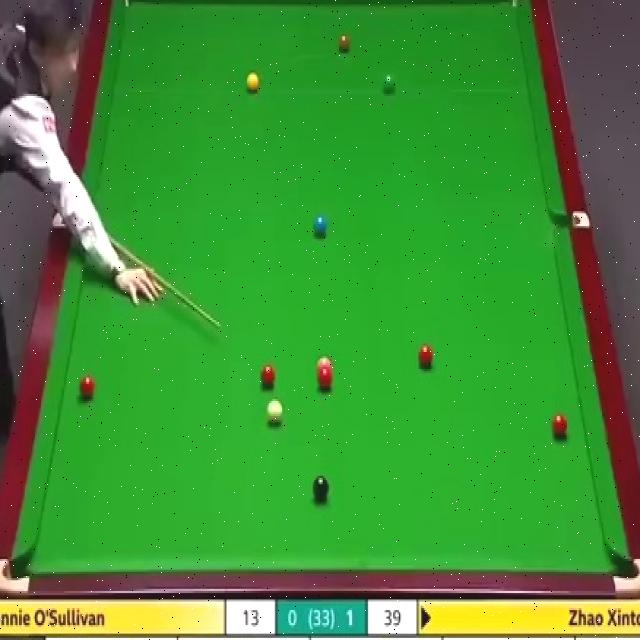black-ball: (312, 473, 330, 501)
blue-ball: (313, 213, 328, 237)
brown-ball: (337, 33, 350, 54)
green-ball: (382, 72, 396, 94)
pink-ball: (316, 356, 333, 372)
red-ball: (79, 373, 96, 401), (552, 415, 570, 439), (417, 344, 433, 369), (316, 368, 333, 391), (260, 365, 276, 388)
white-ball: (265, 397, 283, 424)
yellow-ball: (246, 70, 260, 92)
